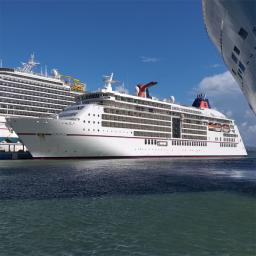cruises: (5, 72, 249, 163)
